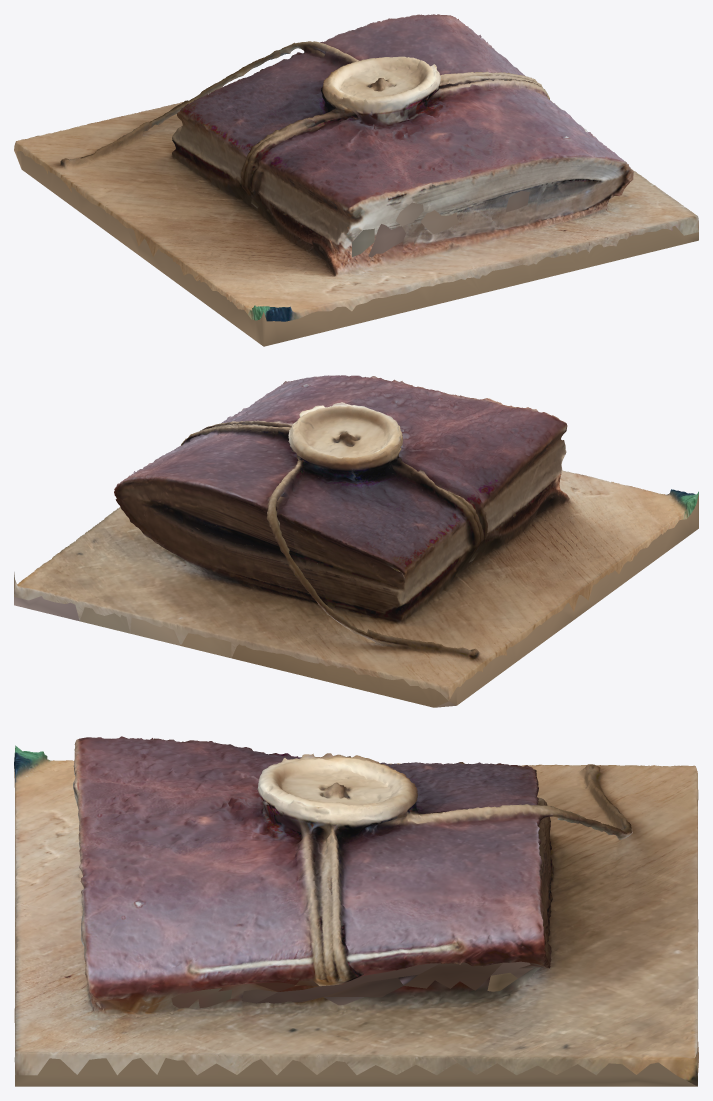
Rendered from notepad_with_button.glb.
3 renders of one model, top to bottom at view 1: azimuth 30°, elevation 25°; view 2: azimuth 150°, elevation 25°; view 3: azimuth 270°, elevation 25°, orthographic. The views are drawn at different scales.
Visible parts, largest first — view 1: Object_5, Object_4, Object_6; view 2: Object_6, Object_4, Object_5, Object_7; view 3: Object_5, Object_4, Object_6, Object_7.
Boxes of the visible parts, x1,y1,x2,y2 form: Object_5: [140, 14, 697, 310]; Object_4: [16, 14, 698, 346]; Object_6: [14, 14, 698, 321]; Object_6: [14, 376, 698, 707]; Object_4: [14, 402, 698, 705]; Object_5: [30, 375, 670, 638]; Object_7: [47, 455, 302, 645]; Object_5: [15, 736, 697, 1059]; Object_4: [14, 753, 698, 1086]; Object_6: [14, 745, 698, 1086]; Object_7: [431, 813, 698, 1050].
Bounding box in the file's own units: 0.2531 × 0.0728 × 0.2523.
Materials: 1 (1 with a texture image).
